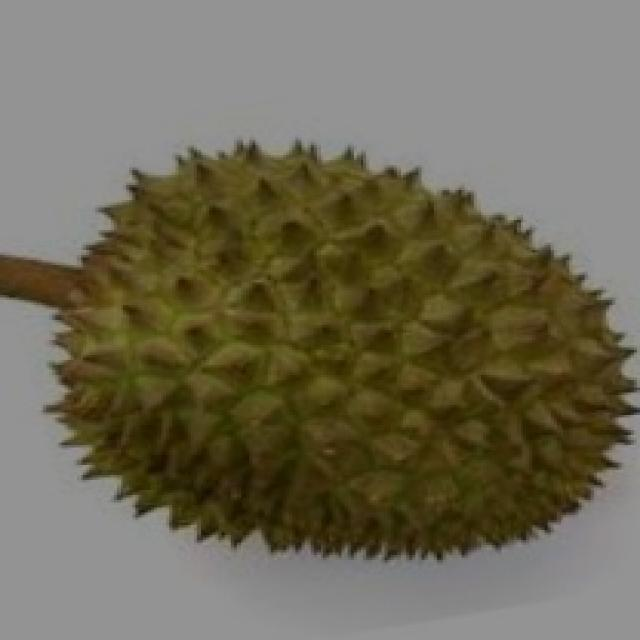fruit: (261, 157, 640, 610), (3, 170, 369, 598)
